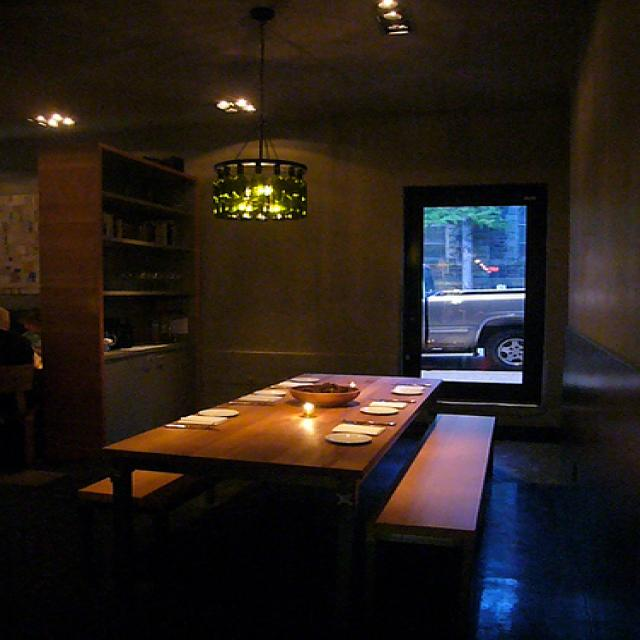Table: (112, 311, 449, 565), (350, 387, 537, 578)
car: (400, 273, 546, 392)
